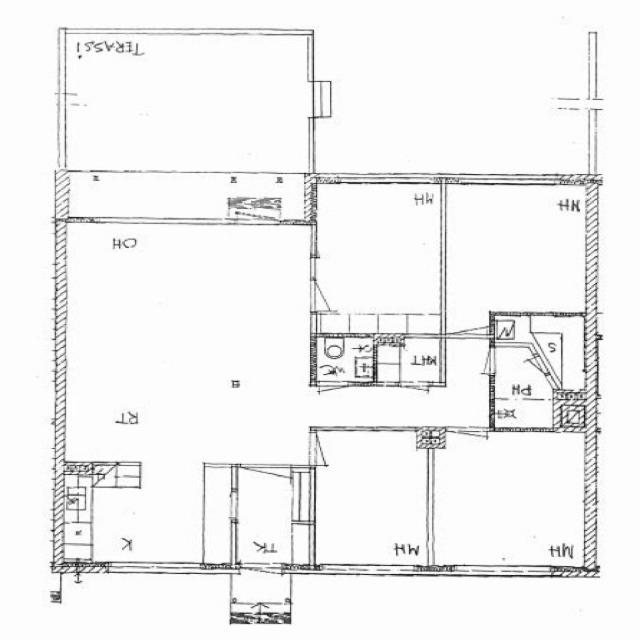door: (243, 463, 290, 504), (236, 186, 276, 224), (240, 566, 281, 602), (448, 302, 487, 338), (311, 279, 355, 310), (450, 427, 487, 462), (309, 434, 351, 462), (512, 355, 549, 382), (459, 349, 495, 373), (319, 382, 347, 409), (402, 382, 429, 409)
